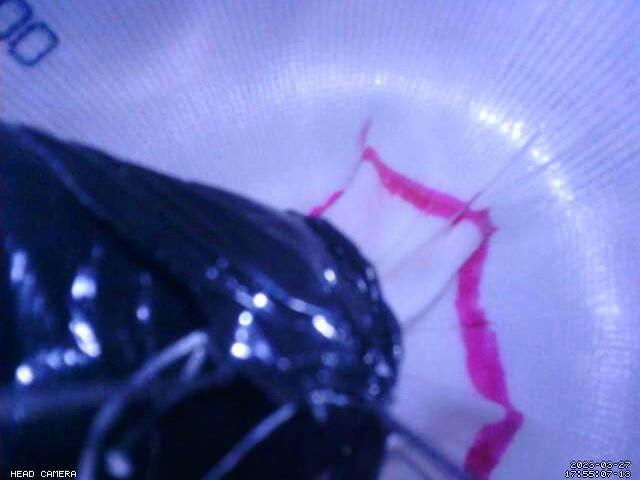red-circle: (310, 147, 526, 480)
